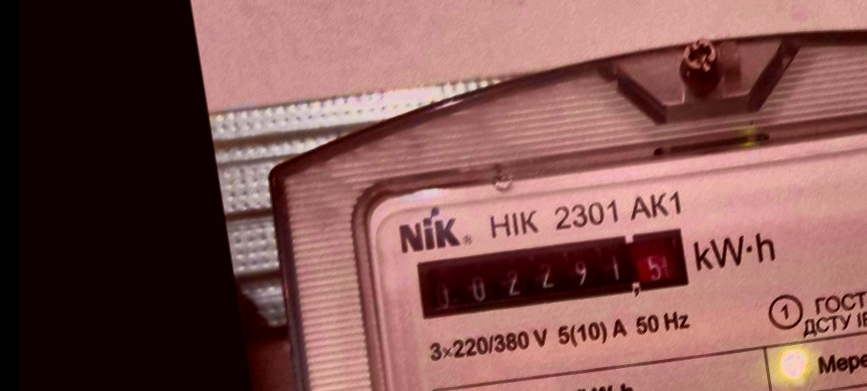0: (431, 277, 453, 309), (468, 272, 489, 303)
1: (605, 249, 625, 285)
2: (503, 266, 523, 297), (537, 259, 556, 290)
5: (644, 250, 665, 282)
9: (571, 255, 592, 287)
screen: (410, 215, 696, 333)
